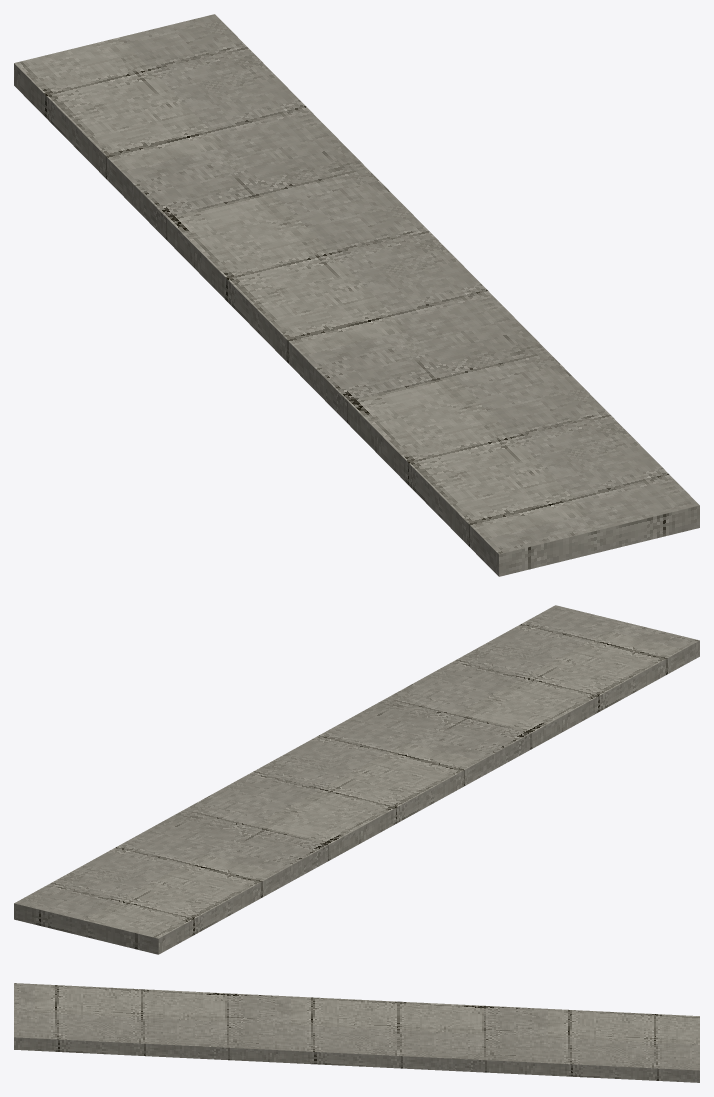
File: road_side_full_25.glb
The picture shows the model from 3 angles, top to bottom: view 1: azimuth 30°, elevation 25°; view 2: azimuth 150°, elevation 25°; view 3: azimuth 270°, elevation 25°; orthographic projection. The views are drawn at different scales.
Parts seen in each view (by area): view 1: road_side_full_25; view 2: road_side_full_25; view 3: road_side_full_25.
Part boxes in pixels (x1=…): road_side_full_25: x1=14, y1=14, x2=699, y2=576; road_side_full_25: x1=14, y1=605, x2=699, y2=954; road_side_full_25: x1=14, y1=983, x2=699, y2=1082.
Bounding box in the file's own units: 5 × 0.4 × 16.
Materials: 1 (1 with a texture image).
